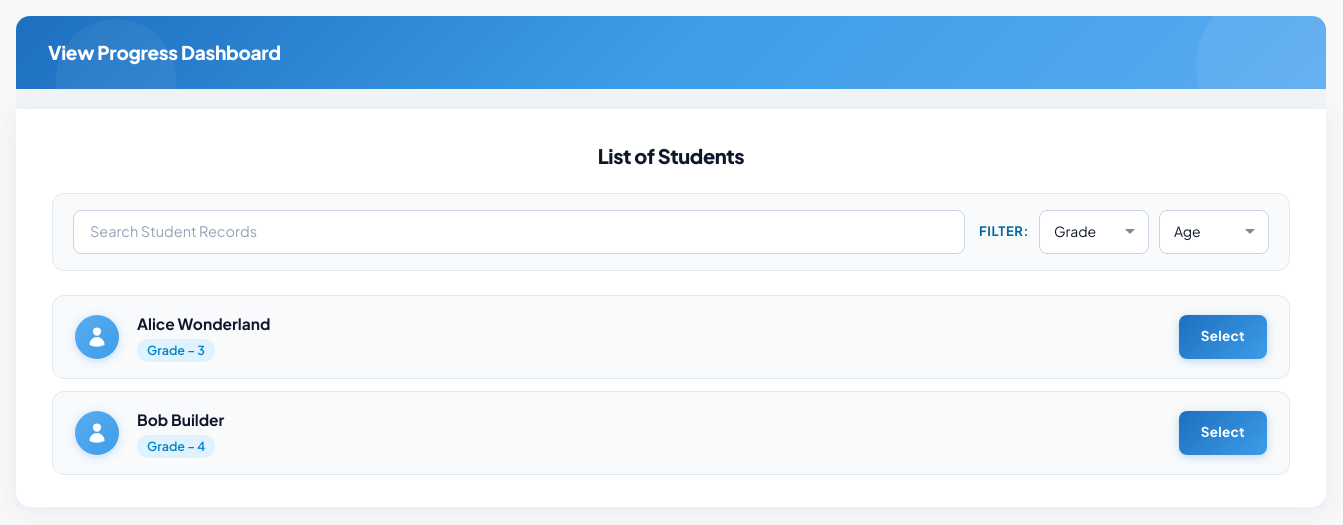
ViewProgressDashboard › filters students based on search input
Expected: the text "Alice Wonderland" is shown, [137, 314, 270, 332]
Type "Alice" into the field with placeholder "Search Student Records" at (519, 232), box [73, 210, 965, 254]
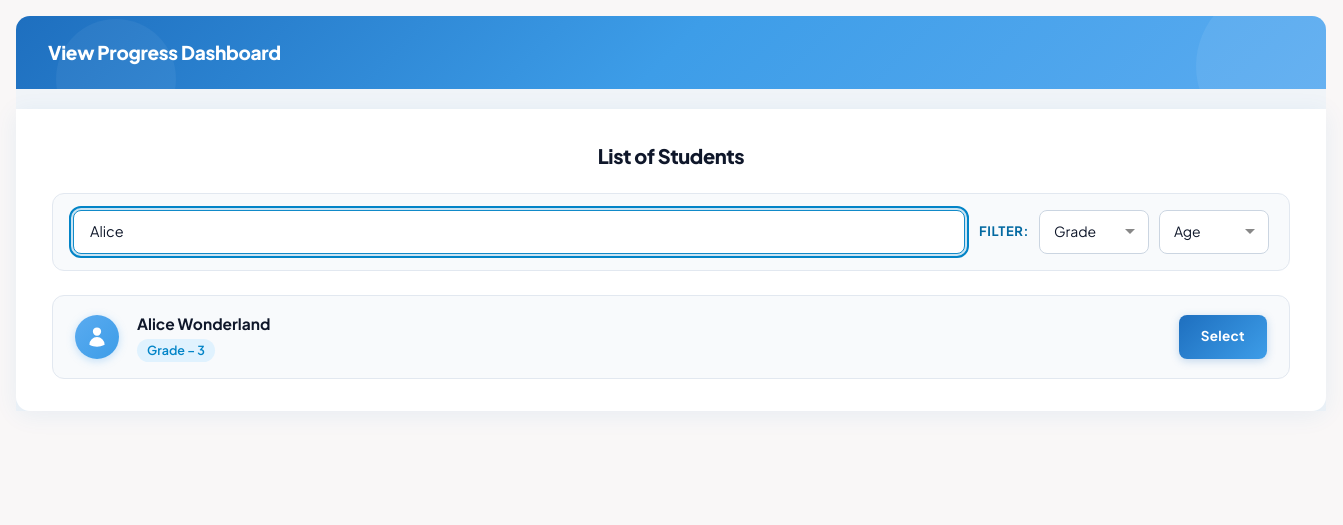
Expected: the text "Alice Wonderland" is shown, [137, 314, 270, 332]
Result: the text "Bob Builder" is gone
